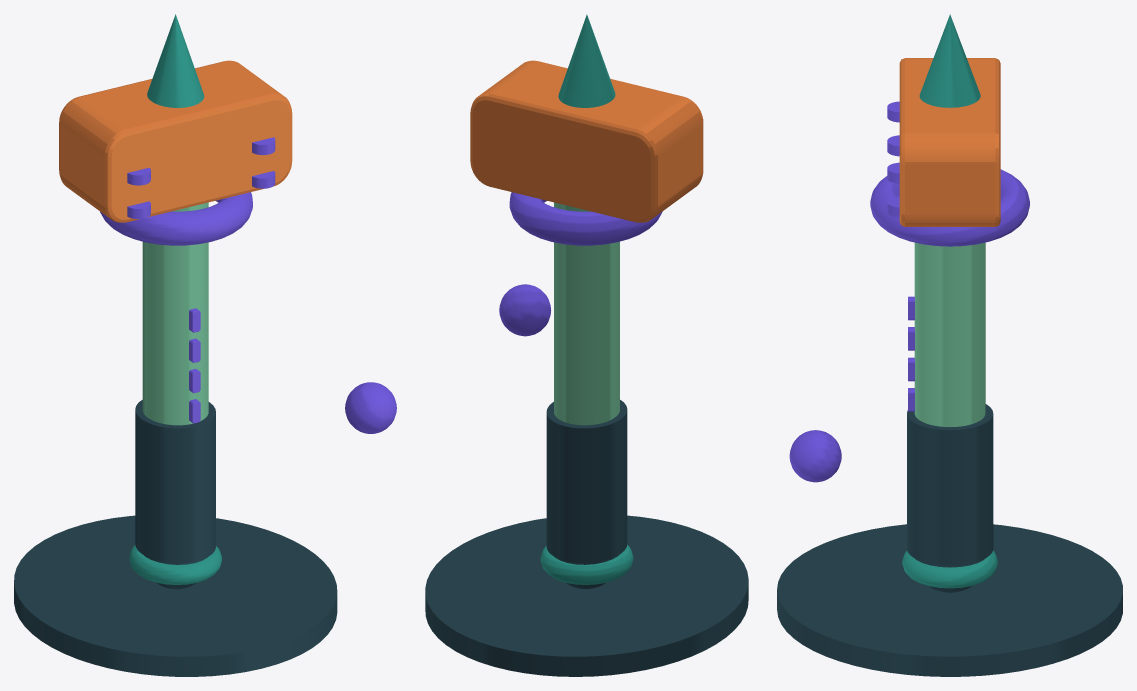
Rendered from 0756_先秦图鉴_弩.glb.
3 views of the same model, side by side, from view 1: azimuth 30°, elevation 25°; view 2: azimuth 150°, elevation 25°; view 3: azimuth 270°, elevation 25° (orthographic).
Parts seen in each view (by area): view 1: card_0756; view 2: card_0756; view 3: card_0756.
Boxes of the visible parts, x1,y1,x2,y2 form: card_0756: [14, 14, 396, 676]; card_0756: [425, 14, 748, 676]; card_0756: [777, 14, 1122, 676].
Size of the model in its own units: 0.5092 by 1 by 0.5262.
